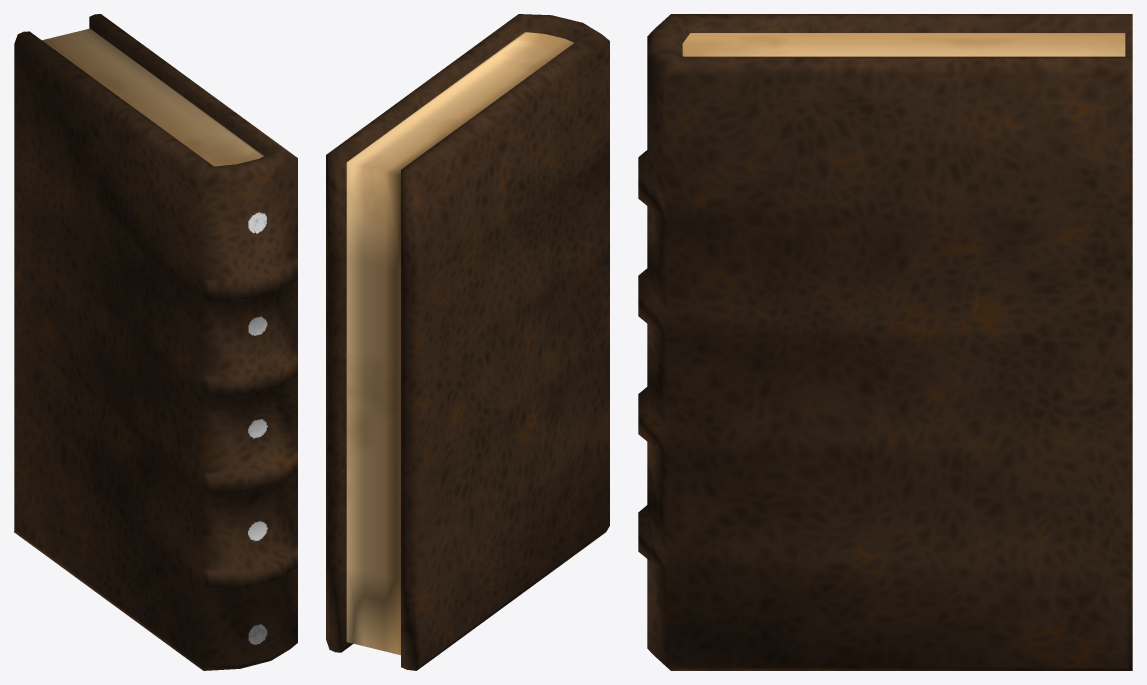
File: ClosedBook.fbx
3 views of the same model, side by side, from view 1: azimuth 30°, elevation 25°; view 2: azimuth 150°, elevation 25°; view 3: azimuth 270°, elevation 25° (orthographic). The views are drawn at different scales.
Parts seen in each view (by area): view 1: BookClosedLowPoly; view 2: BookClosedLowPoly; view 3: BookClosedLowPoly.
Part boxes in pixels (bbox=[...]): BookClosedLowPoly: bbox=[14, 14, 297, 670]; BookClosedLowPoly: bbox=[326, 14, 609, 670]; BookClosedLowPoly: bbox=[638, 14, 1132, 670].
Size of the model in its own units: 8.84 by 43.98 by 32.3.
Materials: 1 (1 with a texture image).
